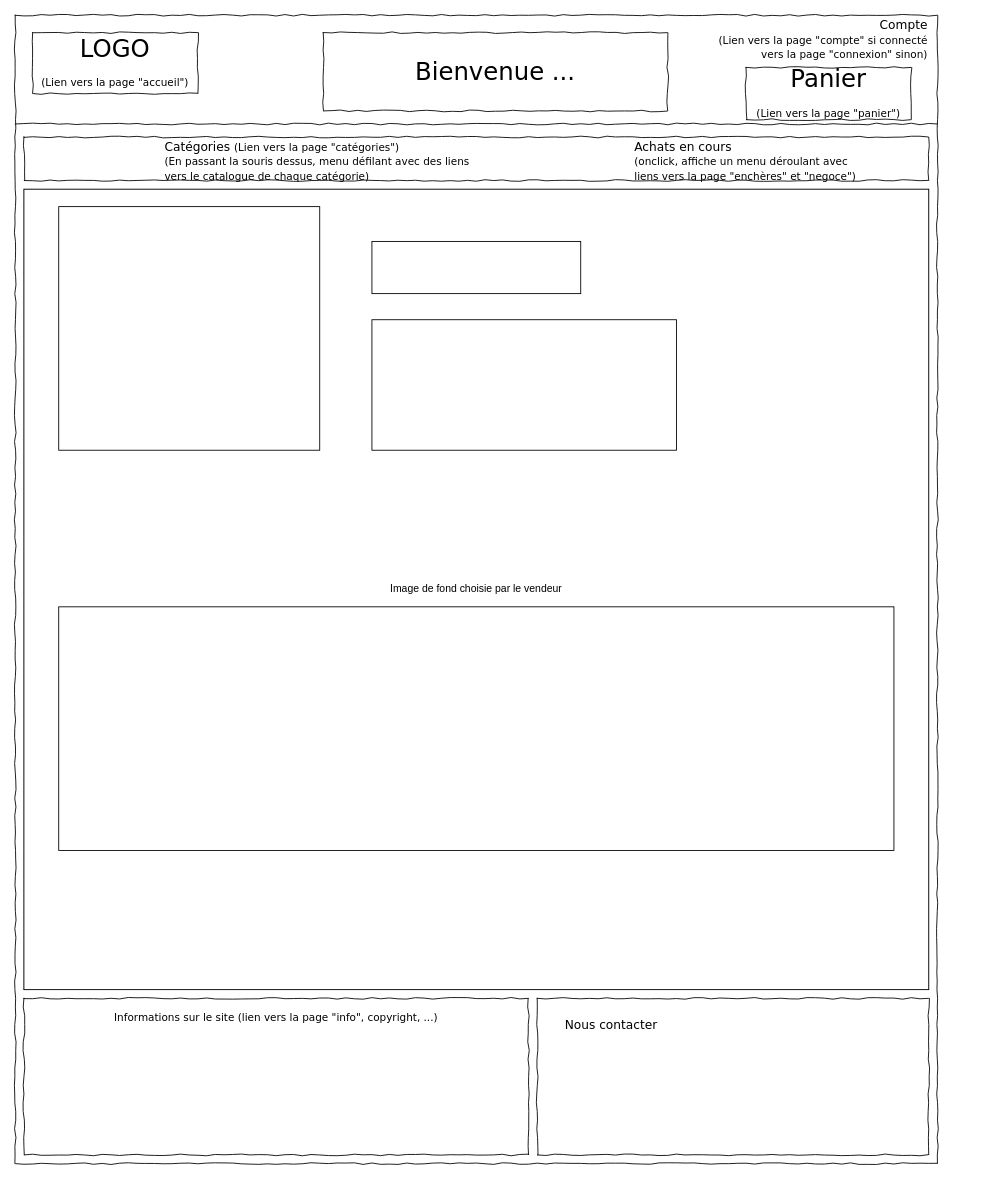
Some shapes in this 996 by 1179 pixel diagram are drawn without their labels. The shapes that lost their labels are listed below. From the top down, each one's box as (x1, y1, x2, y2) in pixels, then its label:
(371, 241, 581, 294): Pseudo du vendeur
(58, 206, 320, 450): Photo choisie par le vendeur
(371, 319, 676, 450): Description personnelle du vendeur
(58, 606, 894, 850): Diaporama d'images de produits que le vendeur propose
